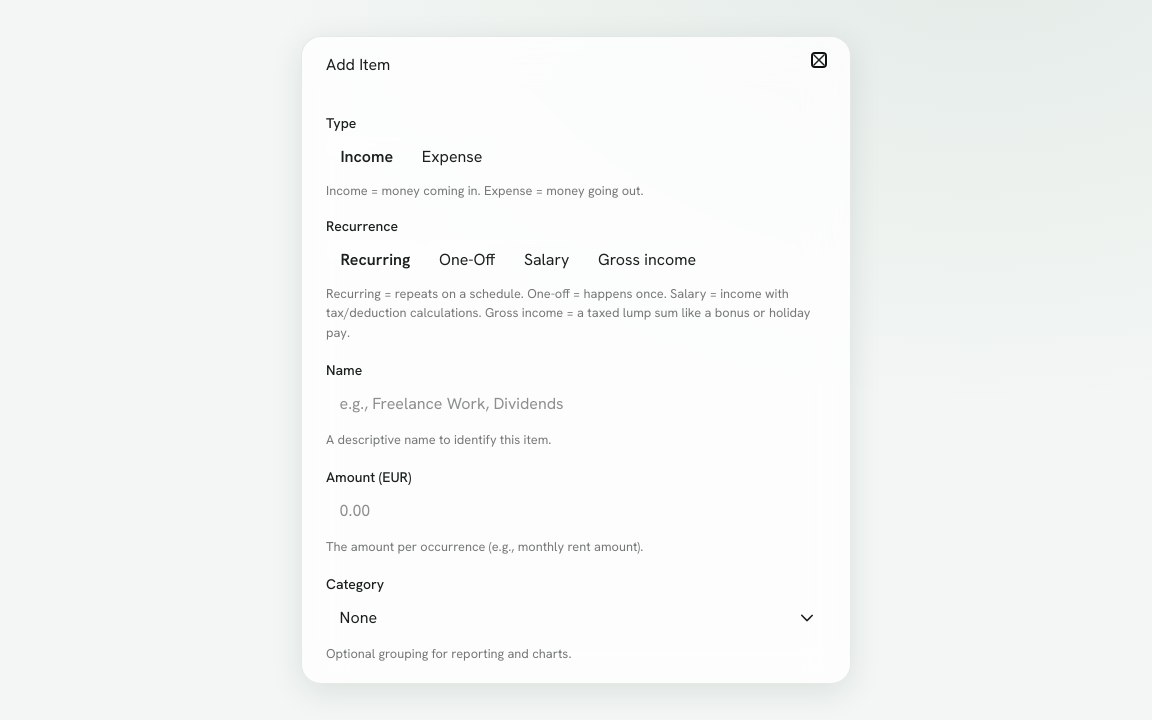
Test: CashflowItemModal (quick-add create form) › shows gross-amount, salary-settings toggle and a net preview for Gross income
Expected: the text "Add Item" is shown, [326,54,390,75]
Click the button "Gross income". click: point(647, 260)
box: [584,240,710,280]
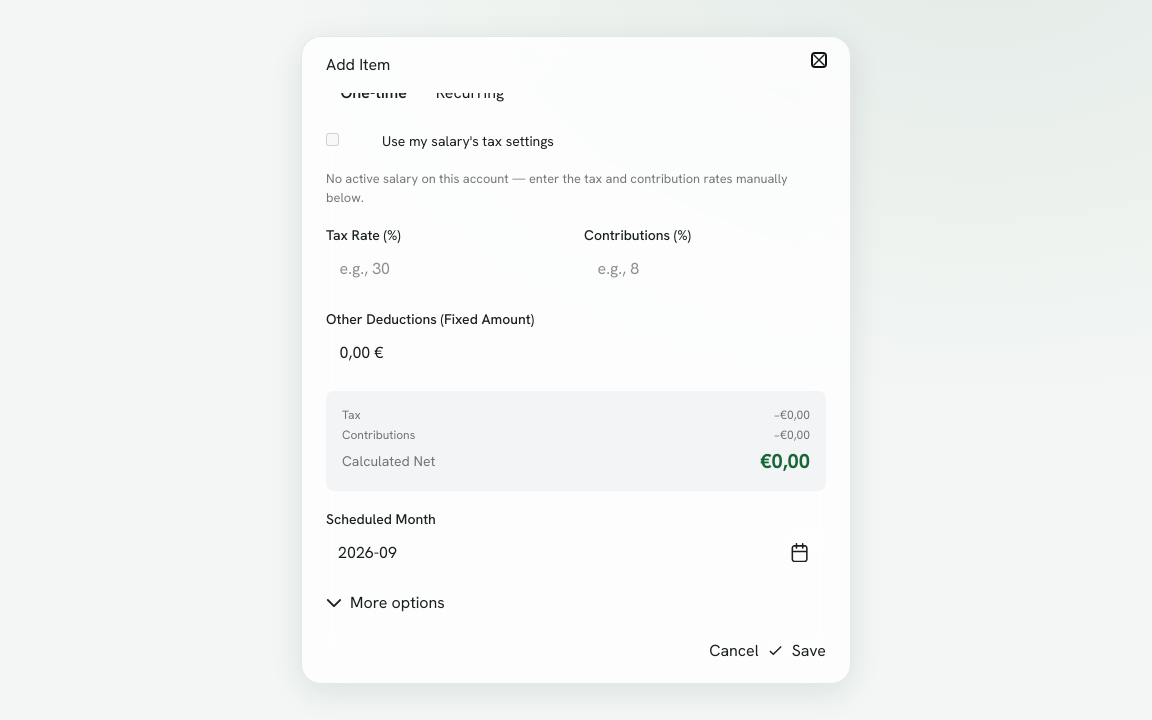
Expected: the text "Use my salary's tax settings" is shown, [382,131,554,151]
Expected: the text "Calculated Net" is shown, [342,451,435,471]
Expected: the text "Amount (EUR)" is gone
